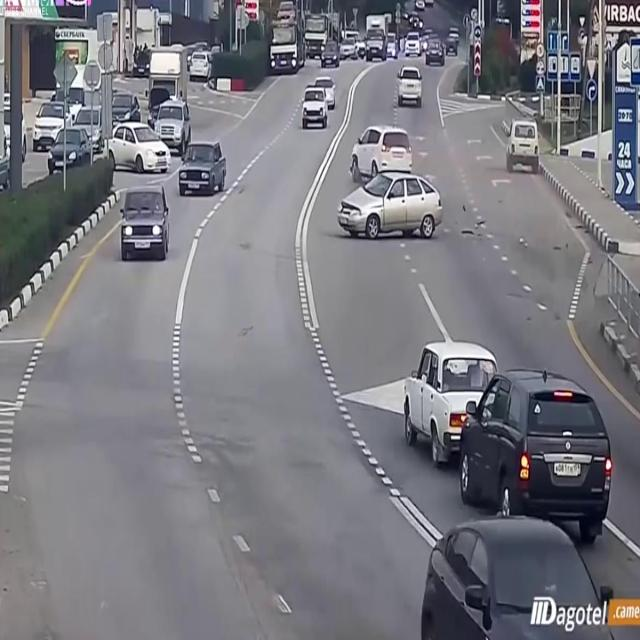accident: (334, 119, 490, 253)
non_accident: (400, 329, 615, 556), (29, 38, 231, 270), (294, 71, 341, 139)
